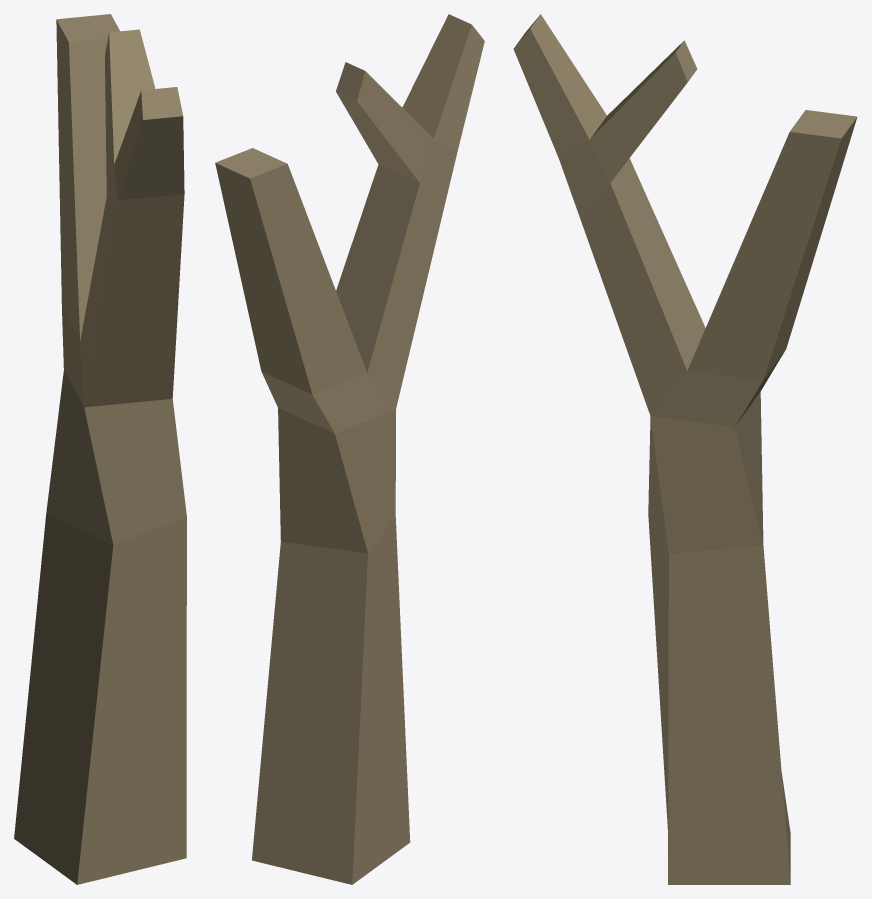
Rendered from tree_big_7.fbx.
3 views of the same model, side by side, from view 1: azimuth 30°, elevation 25°; view 2: azimuth 150°, elevation 25°; view 3: azimuth 270°, elevation 25° (orthographic). The views are drawn at different scales.
Parts seen in each view (by area): view 1: tree_big_7; view 2: tree_big_7; view 3: tree_big_7.
Part boxes in pixels (box(x1,y1,x2,y2)): tree_big_7: box(14, 14, 186, 884); tree_big_7: box(215, 14, 484, 884); tree_big_7: box(513, 14, 857, 884).
Bounding box in the file's own units: 38.84 × 239 × 91.17.
